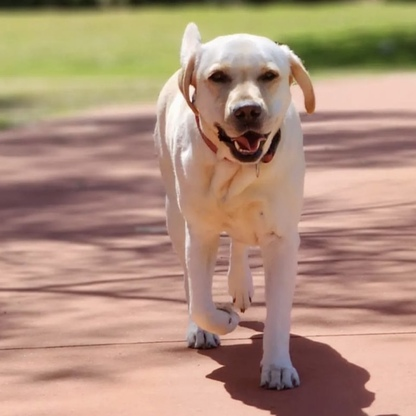labrado: (145, 10, 327, 398)
